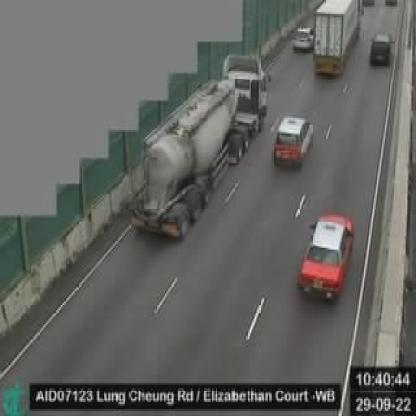Car: (292, 205, 359, 310), (271, 109, 318, 179), (366, 26, 394, 73), (290, 26, 314, 50)
Truck: (120, 47, 270, 239), (306, 0, 366, 78)
